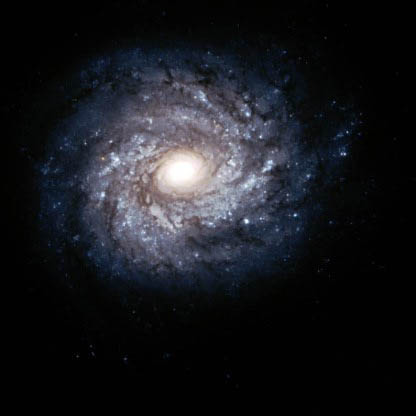NGC 3982: (33, 62, 333, 281)
